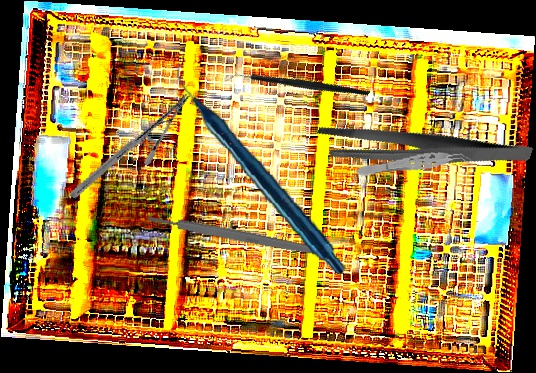Chopper: (225, 28, 371, 145)
Dressing Forceps: (311, 79, 534, 218)
Handpiece: (174, 51, 347, 285)
Needle Holder: (69, 68, 191, 224)
Scalpel Handle: (147, 212, 328, 259)
Tissue Forceps: (355, 147, 473, 181)
